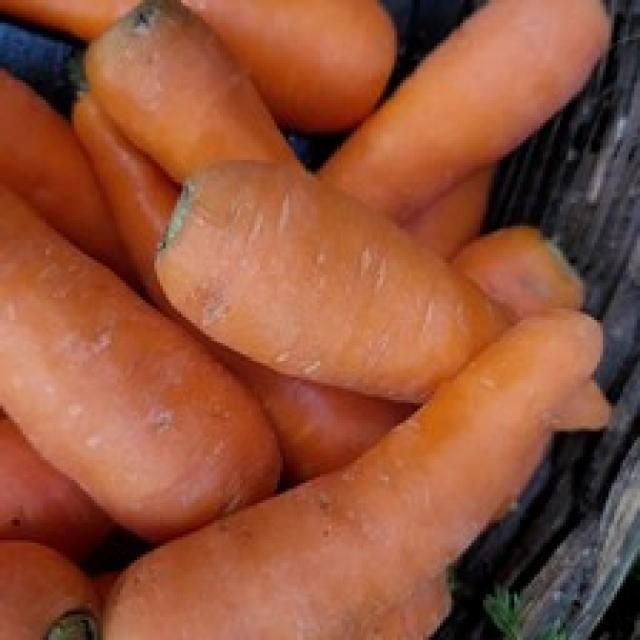Fresh_Carrot: (159, 323, 609, 640), (0, 143, 280, 588), (168, 172, 509, 398)
